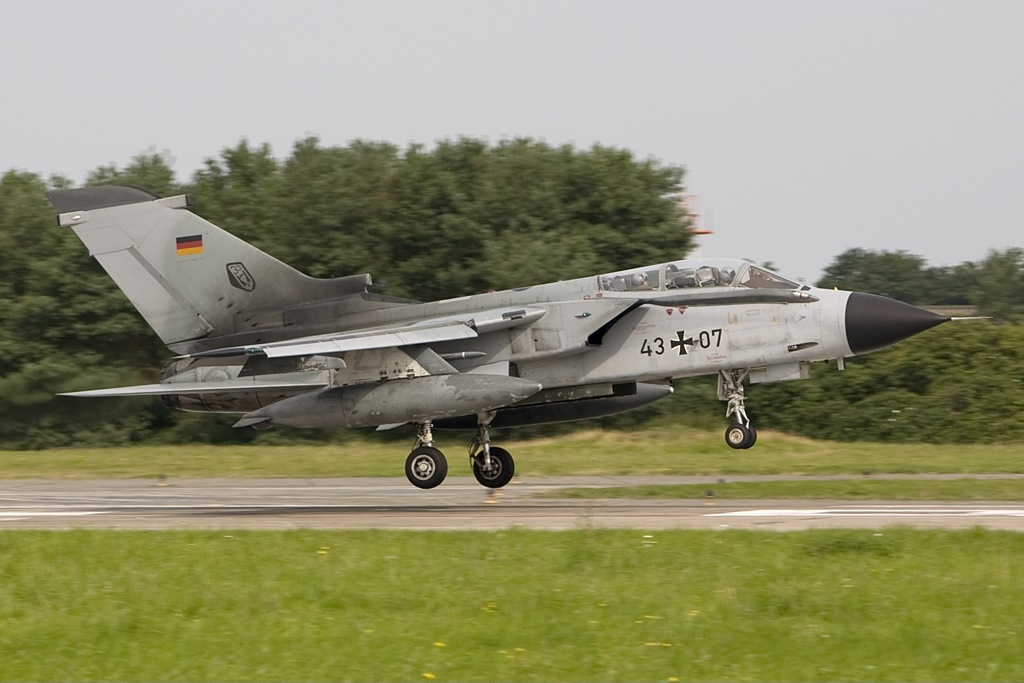Tornado: (43, 184, 994, 489)
